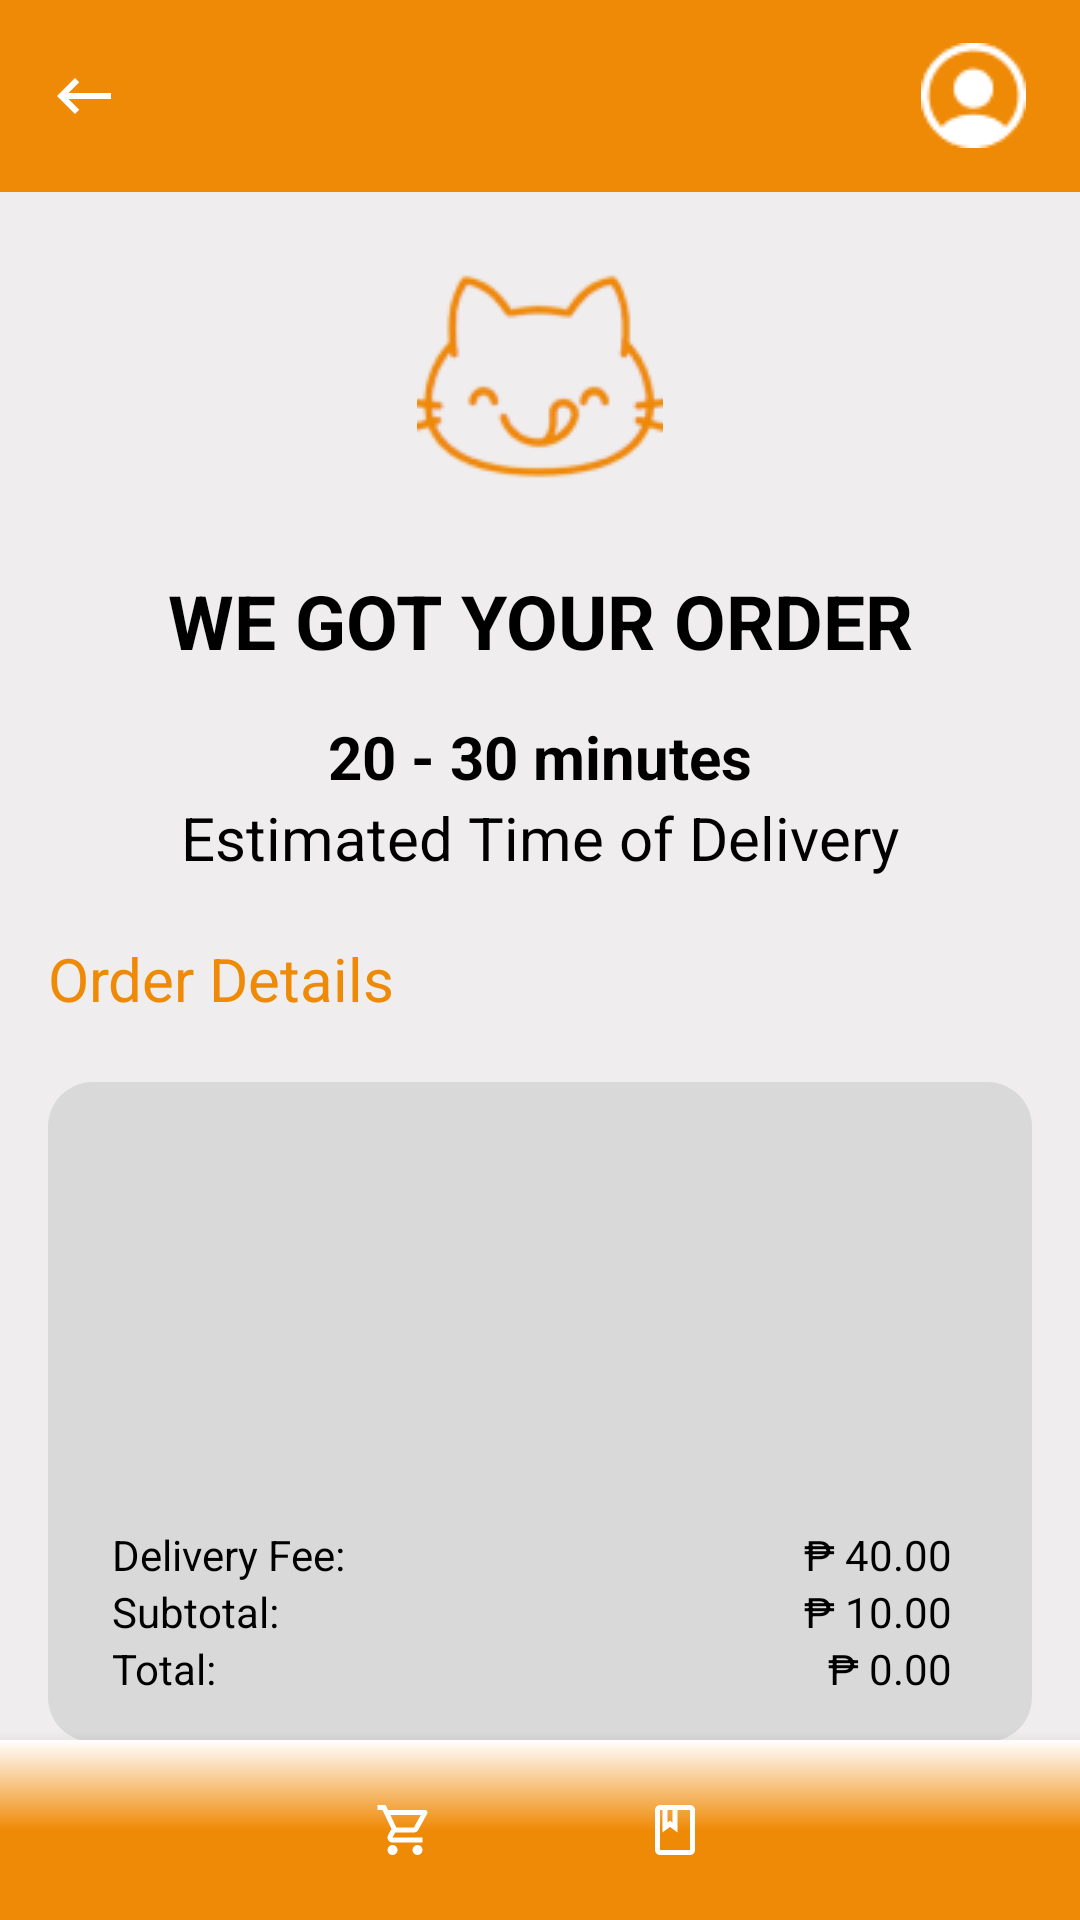

Locate icon controls on the screen. Image size 1080px x 1920px, boxes as (x1, y1, x2, y2).
back: (57, 78, 111, 114)
profile: (921, 43, 1026, 148)
